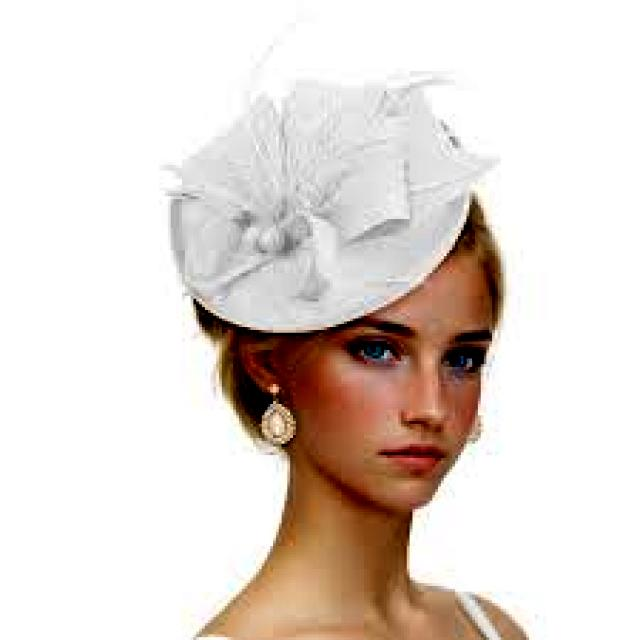face: (279, 254, 492, 511)
hat: (171, 77, 497, 332)
